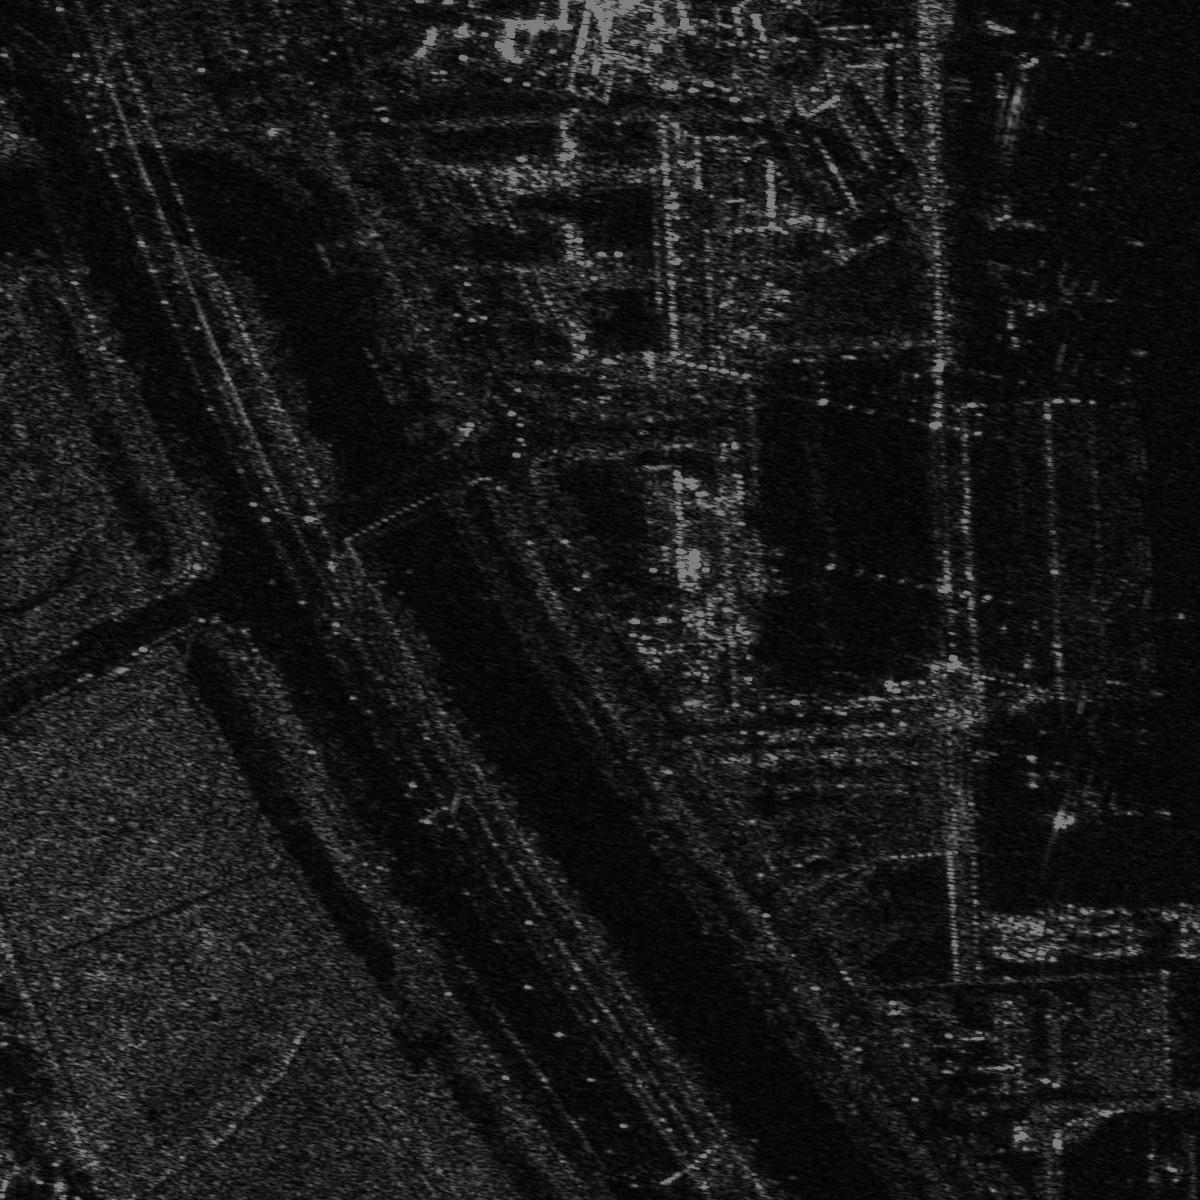A220: (1021, 23, 1119, 88), (1027, 265, 1121, 331)
